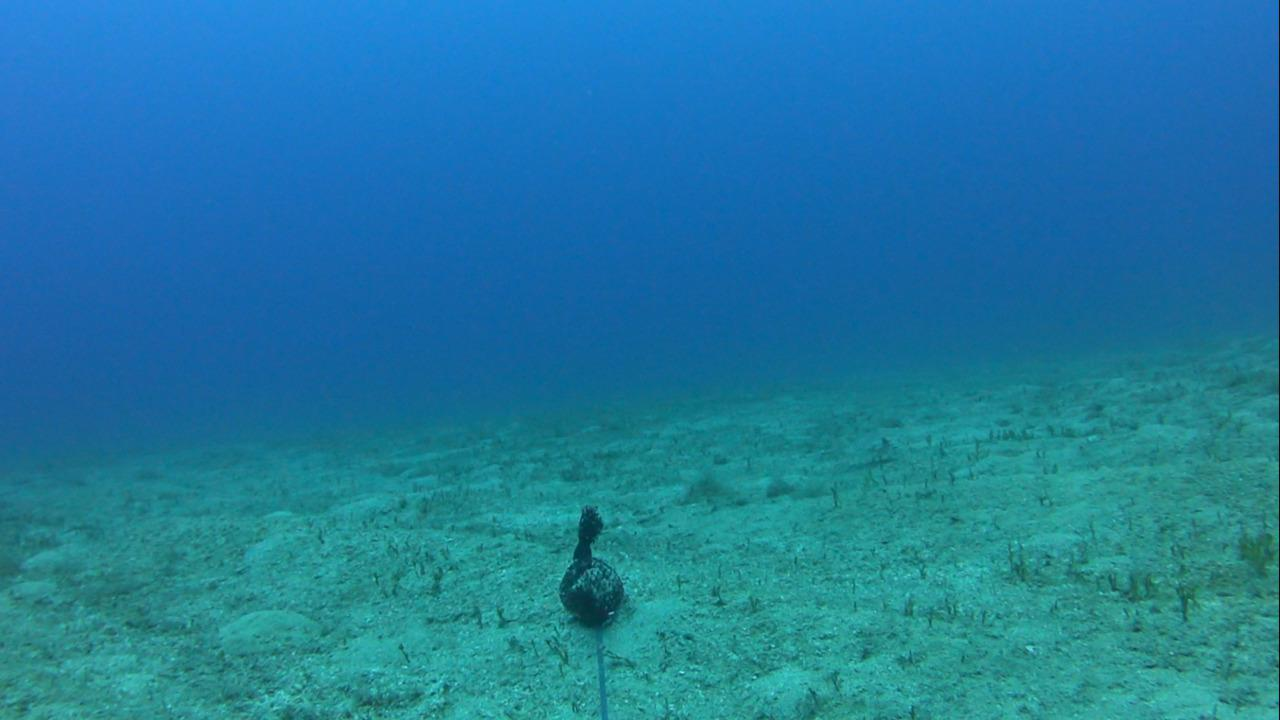dactylopterus: (803, 431, 901, 475)
